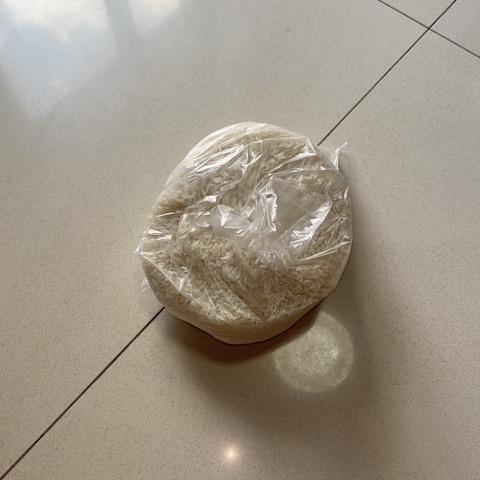rice: (129, 117, 363, 357)
